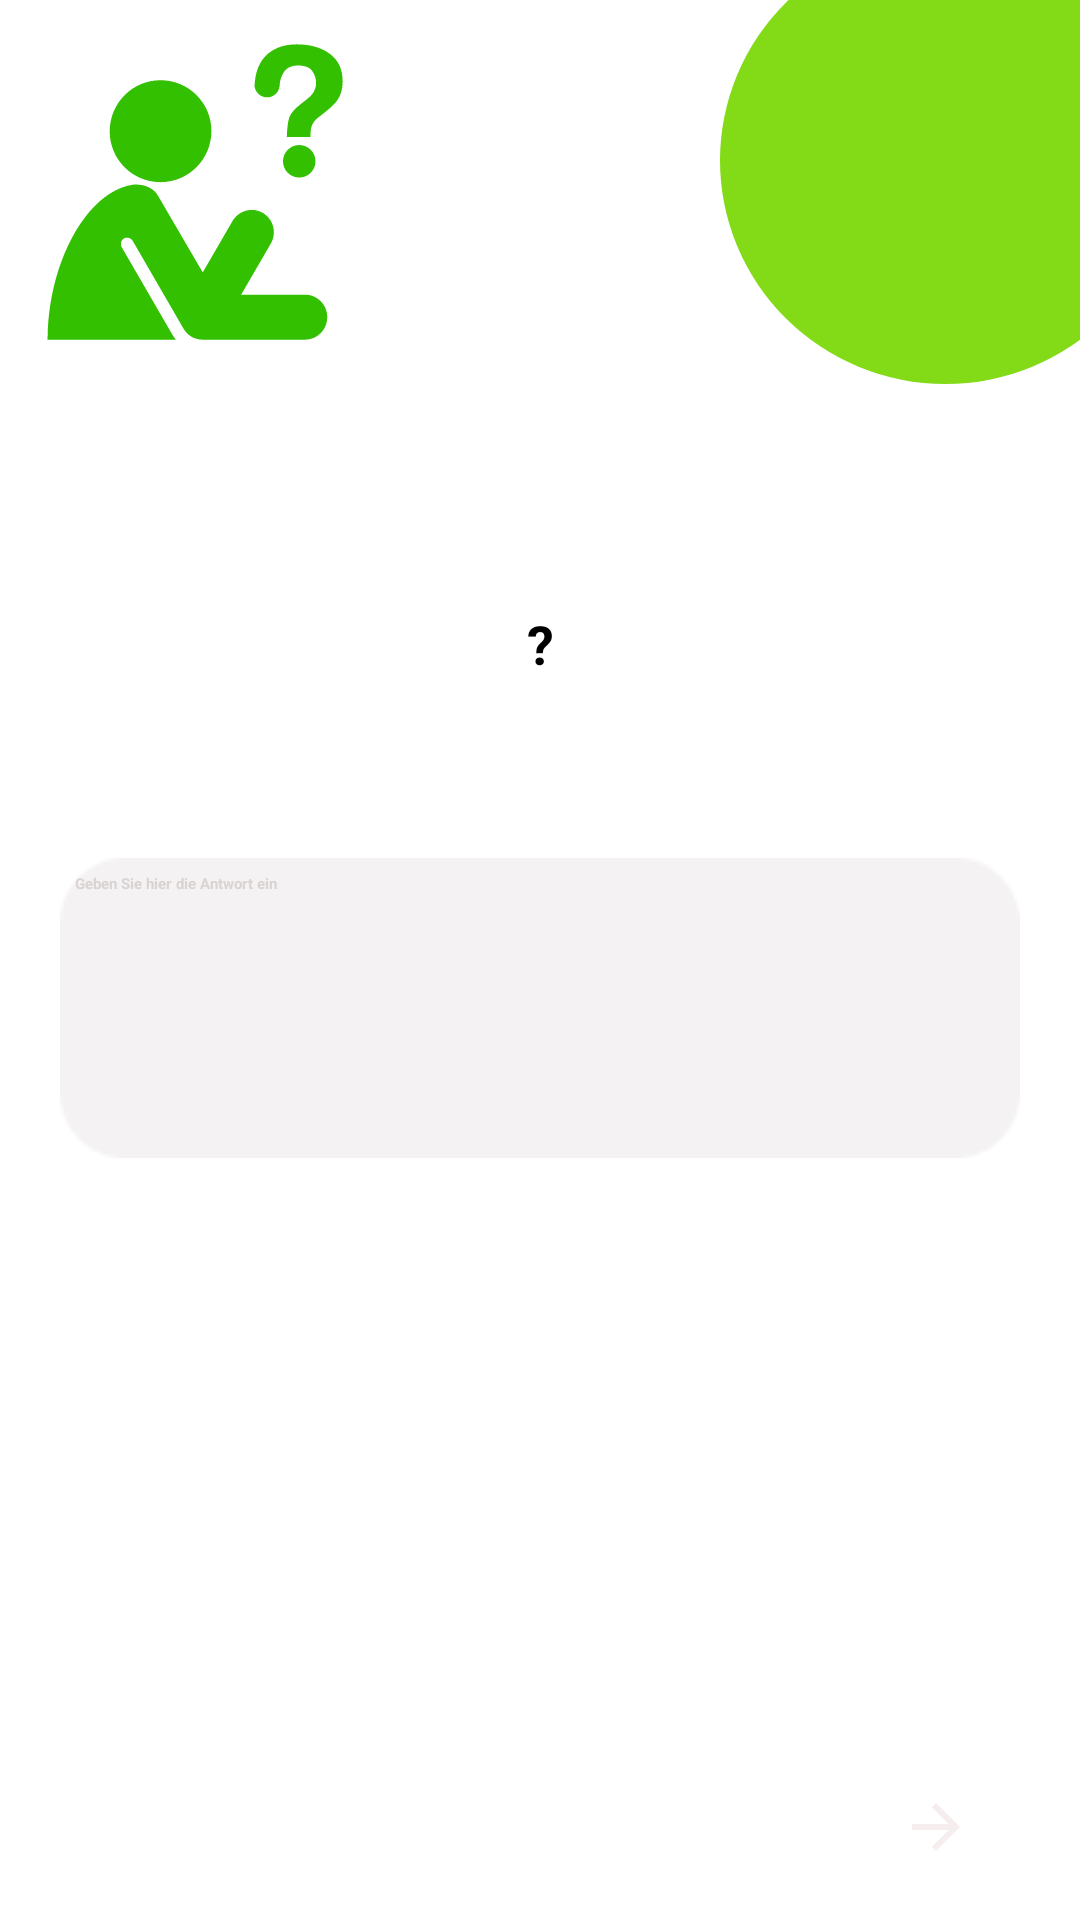

Point at icon controls on the screen. Image size 1080 x 1920, points as (x=x, y=y).
thinker: (x=195, y=192)
